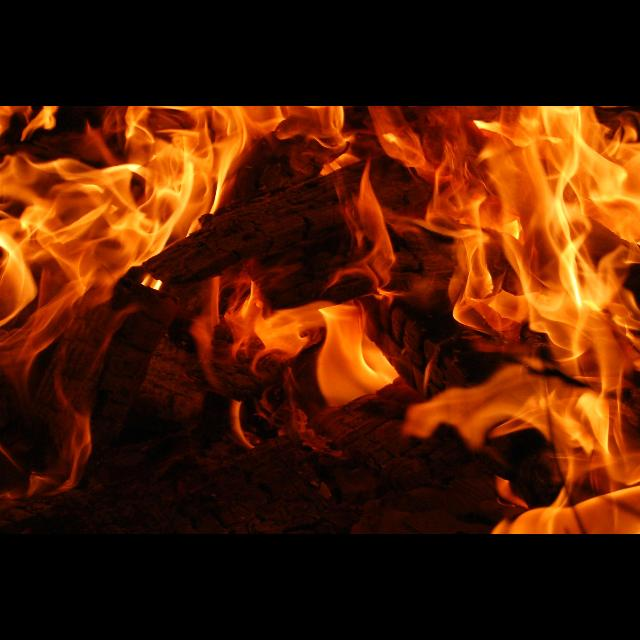fire: (0, 106, 640, 534)
